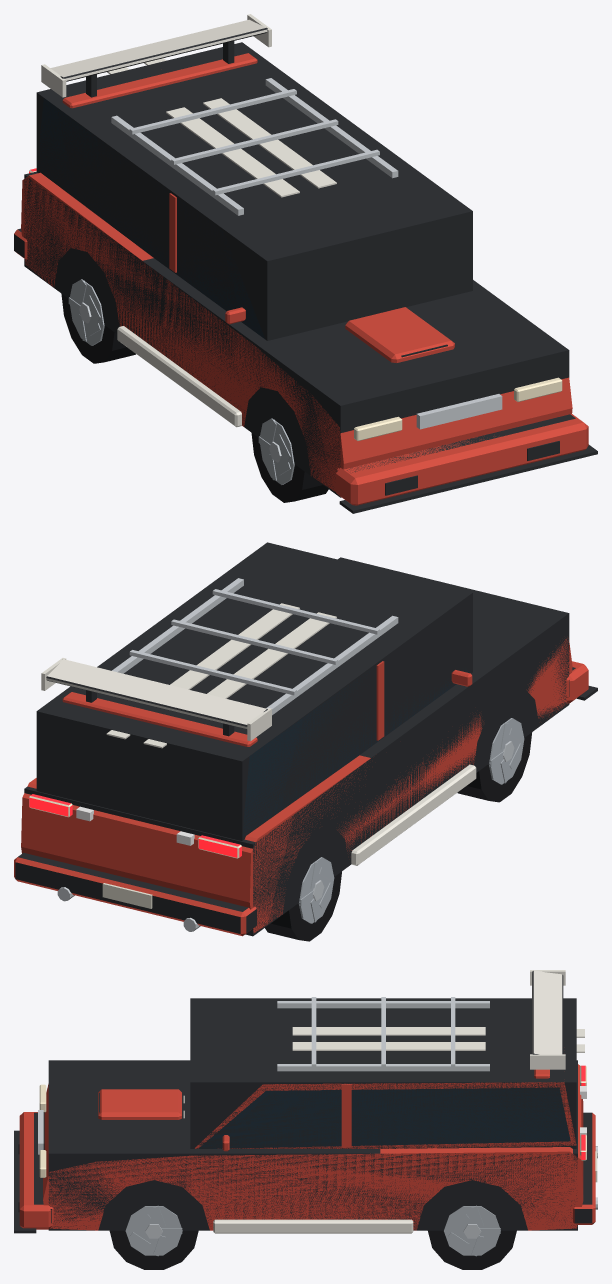
File: VEH_SUV.fbx
3 views of the same model, one above another, from view 1: azimuth 30°, elevation 25°; view 2: azimuth 150°, elevation 25°; view 3: azimuth 270°, elevation 25° (orthographic). The views are drawn at different scales.
Parts seen in each view (by area): view 1: VEH_SUV__COL_Cabin, VEH_SUV__COL_Body, VEH_SUV, VEH_SUV__BODY, VEH_SUV__WHEEL_FR, VEH_SUV__WHEEL_RR, VEH_SUV__LIGHTS; view 2: VEH_SUV__COL_Cabin, VEH_SUV__BODY, VEH_SUV__COL_Body, VEH_SUV, VEH_SUV__WHEEL_RR, VEH_SUV__WHEEL_FR, VEH_SUV__LIGHTS; view 3: VEH_SUV__BODY, VEH_SUV__COL_Cabin, VEH_SUV__COL_Body, VEH_SUV, VEH_SUV__WHEEL_FL, VEH_SUV__WHEEL_RL, VEH_SUV__LIGHTS.
Boxes of the visible parts, x1,y1,x2,y2 form: VEH_SUV__COL_Cabin: [36, 42, 472, 340]; VEH_SUV__COL_Body: [24, 171, 569, 497]; VEH_SUV: [41, 14, 597, 513]; VEH_SUV__BODY: [14, 98, 575, 491]; VEH_SUV__WHEEL_FR: [251, 418, 328, 502]; VEH_SUV__WHEEL_RR: [61, 279, 135, 363]; VEH_SUV__LIGHTS: [29, 168, 562, 440]; VEH_SUV__COL_Cabin: [36, 542, 472, 840]; VEH_SUV__BODY: [14, 638, 575, 936]; VEH_SUV__COL_Body: [24, 557, 569, 936]; VEH_SUV: [41, 578, 597, 931]; VEH_SUV__WHEEL_RR: [265, 857, 341, 941]; VEH_SUV__WHEEL_FR: [457, 718, 532, 802]; VEH_SUV__LIGHTS: [29, 794, 241, 858]; VEH_SUV__BODY: [34, 1064, 597, 1230]; VEH_SUV__COL_Cabin: [190, 998, 576, 1148]; VEH_SUV__COL_Body: [48, 1060, 577, 1230]; VEH_SUV: [14, 970, 597, 1233]; VEH_SUV__WHEEL_FL: [109, 1205, 198, 1269]; VEH_SUV__WHEEL_RL: [428, 1205, 516, 1269]; VEH_SUV__LIGHTS: [39, 1065, 586, 1177].
Bounding box in the file's own units: 2.12 × 2.09 × 5.23.
